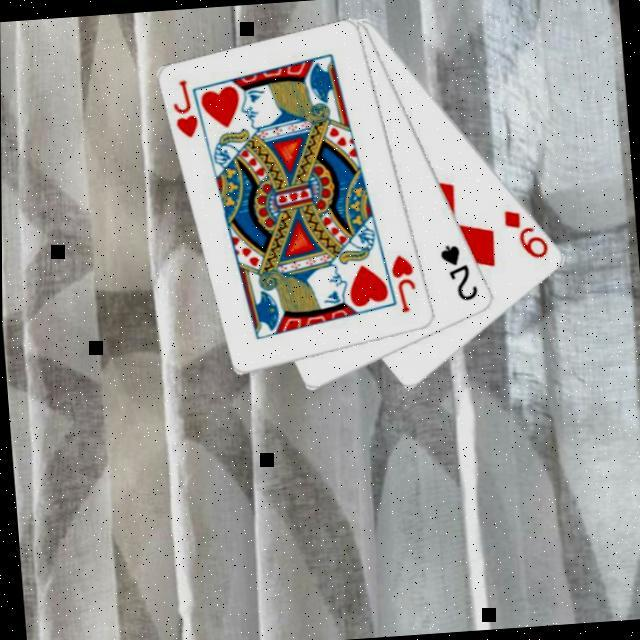2S: (434, 238, 480, 305)
9D: (498, 203, 550, 262)
JH: (386, 250, 418, 316), (168, 75, 200, 141)
